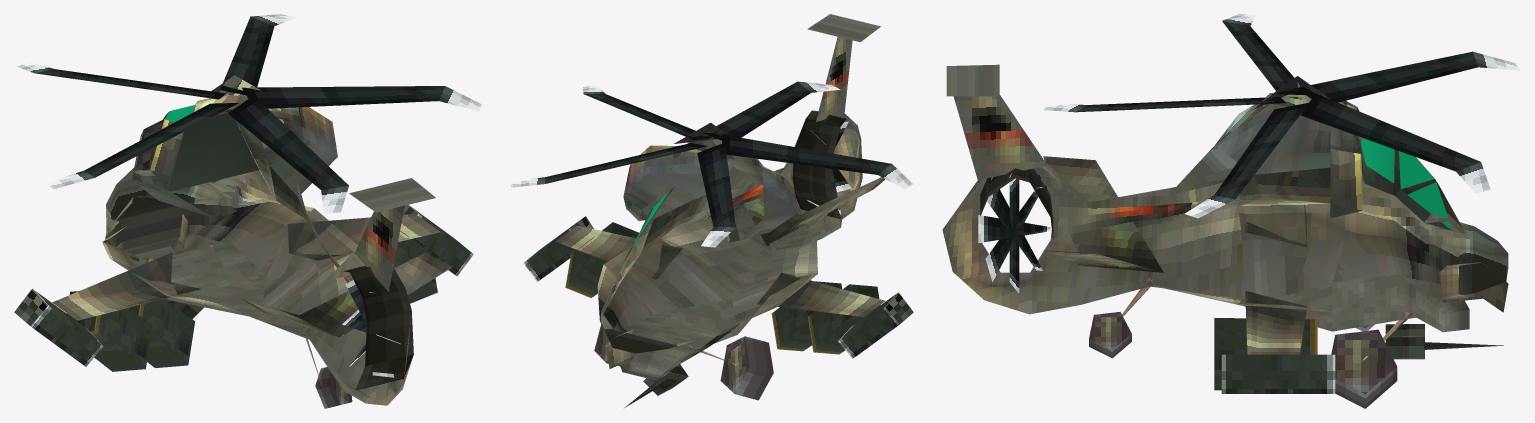
The model's file is ps2_save-icons_thunderstrikeoperationphoenix.glb.
3 views of the same model, side by side, from view 1: azimuth 30°, elevation 25°; view 2: azimuth 150°, elevation 25°; view 3: azimuth 270°, elevation 25° (orthographic). The views are drawn at different scales.
Parts seen in each view (by area): view 1: thunder.ico; view 2: thunder.ico; view 3: thunder.ico.
Part boxes in pixels (left/top/right/bottom): thunder.ico: left=14, top=14, right=481, bottom=408; thunder.ico: left=510, top=14, right=913, bottom=407; thunder.ico: left=942, top=14, right=1520, bottom=408.
Bounding box in the file's own units: 3.22 × 2.1 × 3.82.
1 material, 1 textured.
